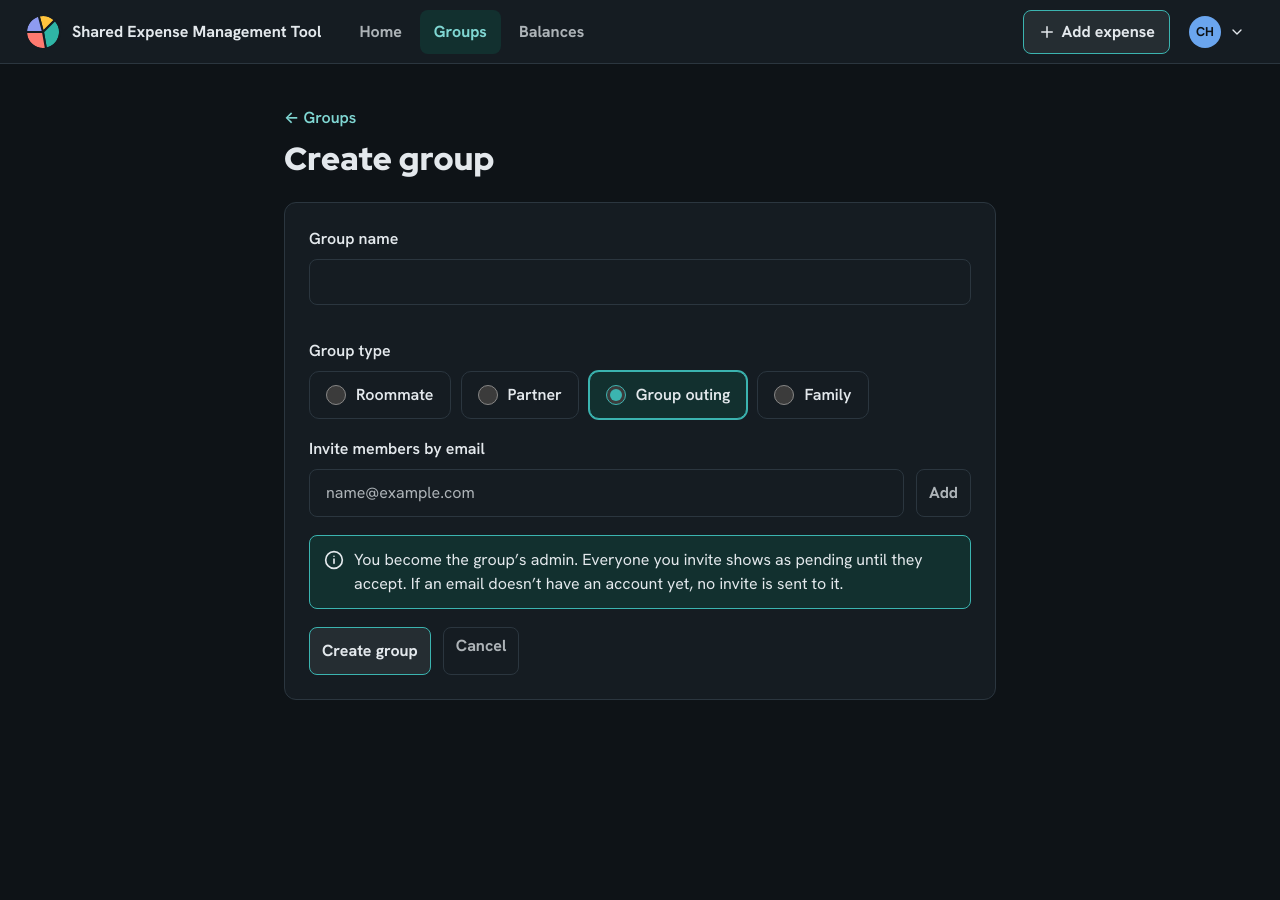
Scenario: Create group screen › creates the group with the chosen type and lands on the group page
This screenshot has width=1280, height=900.
Type "  Beach weekend " into the field labelled "Group name" at (640, 282), box [309,259,971,305]
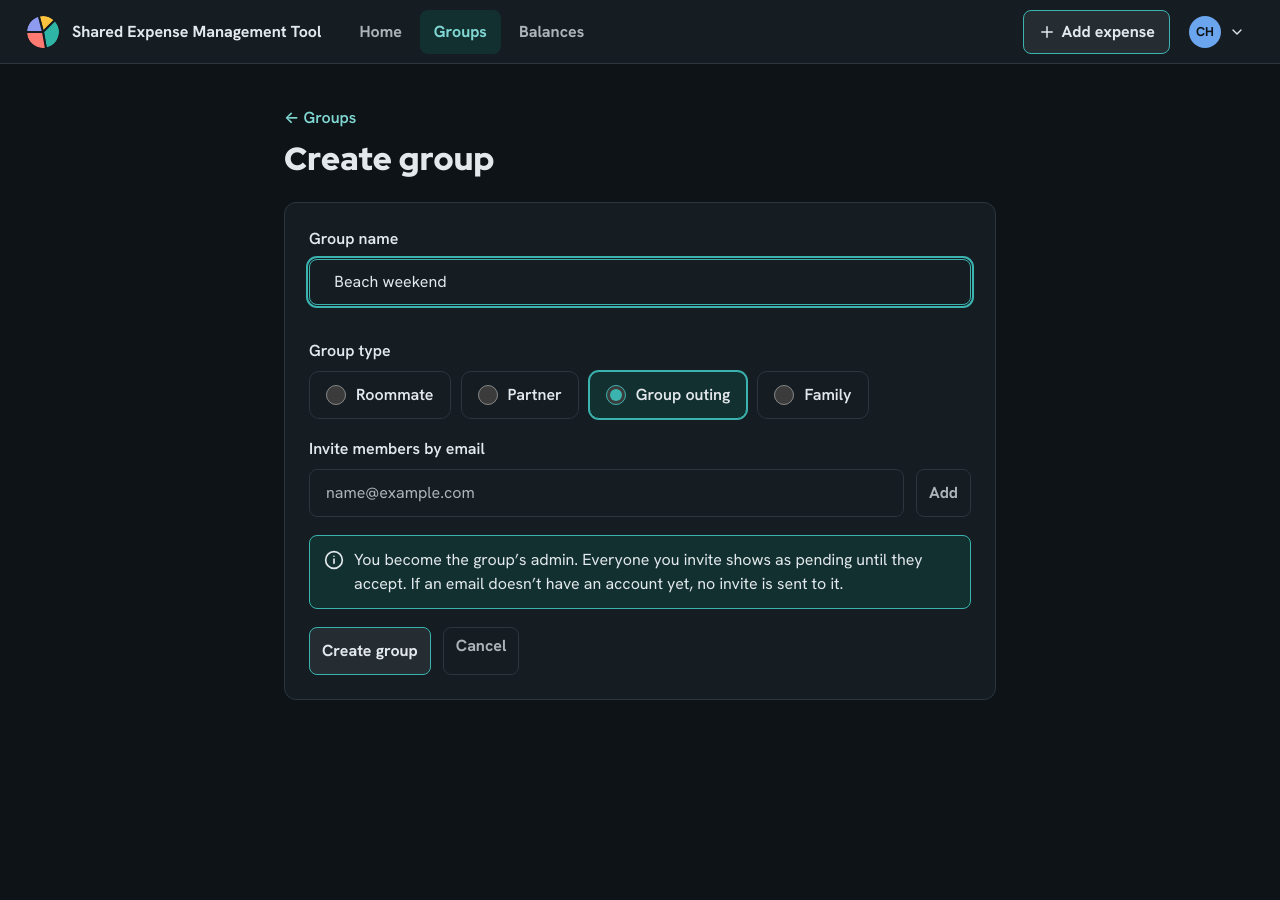
Click the radio button labelled "Family" at (784, 395), box [774,385,794,405]
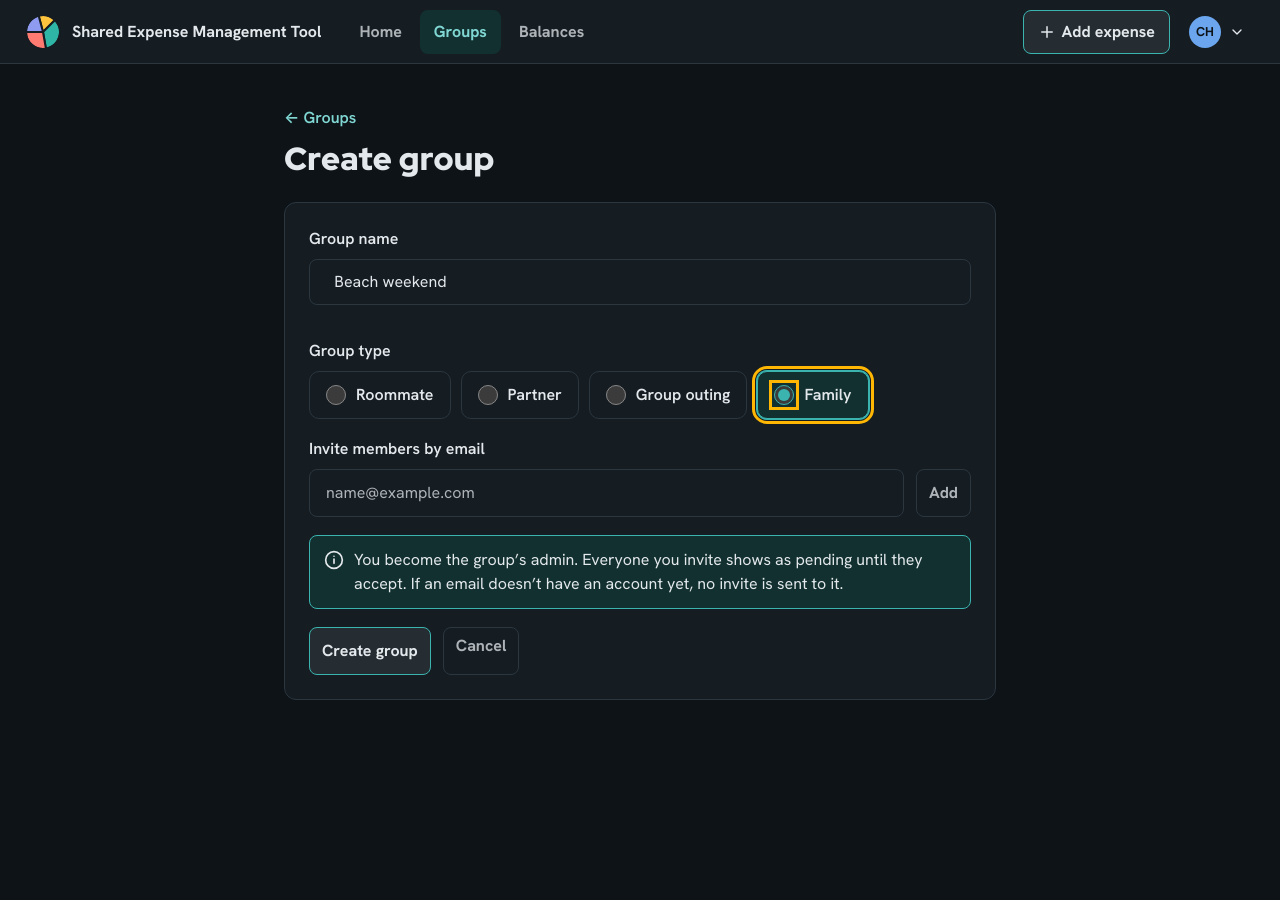
Click the button "Create group" at (370, 651), box [309,627,431,675]
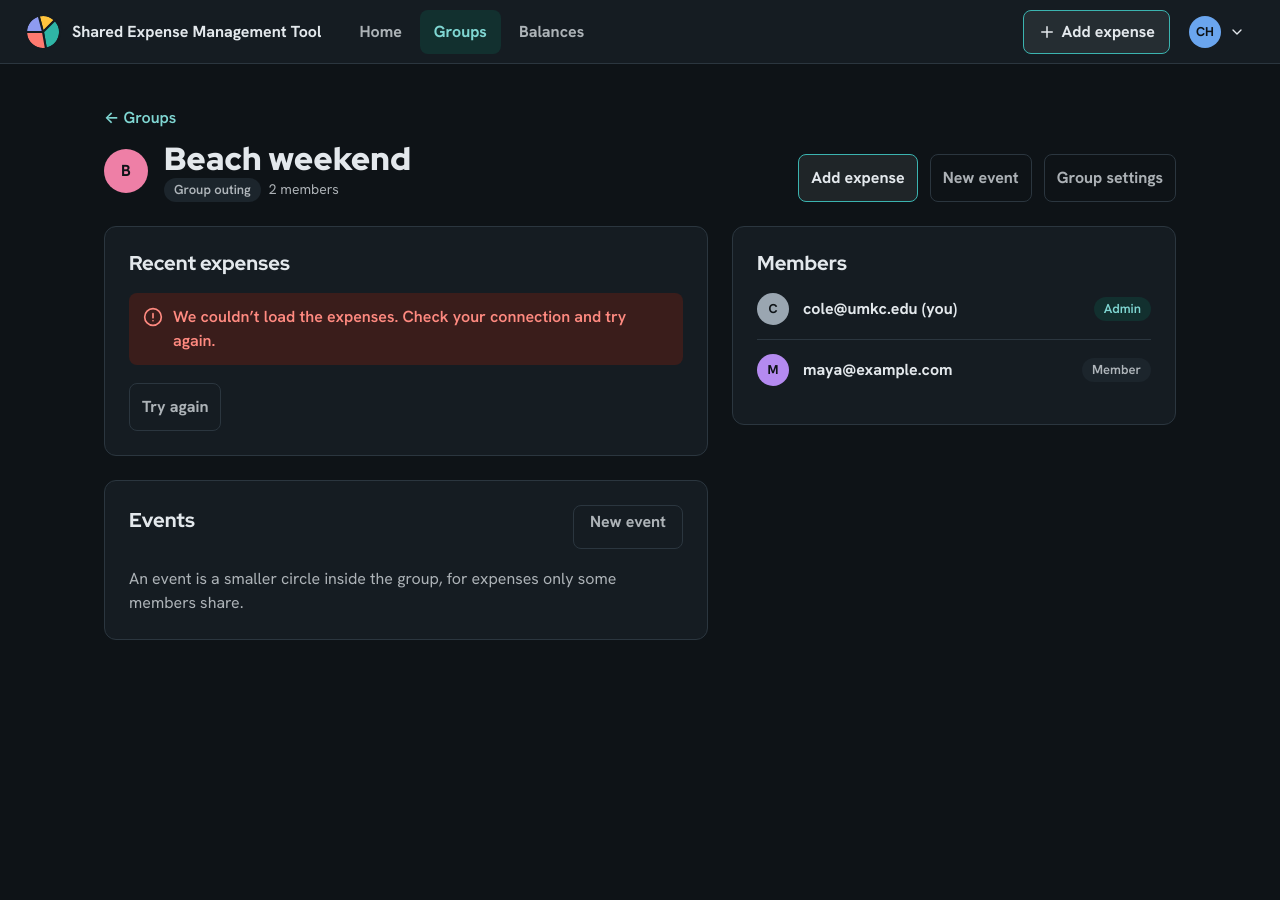
Expected: the heading "Beach weekend" is shown, [164,140,411,178]
Expected: the text "cole@umkc.edu (you)" is shown, [803,298,957,319]
